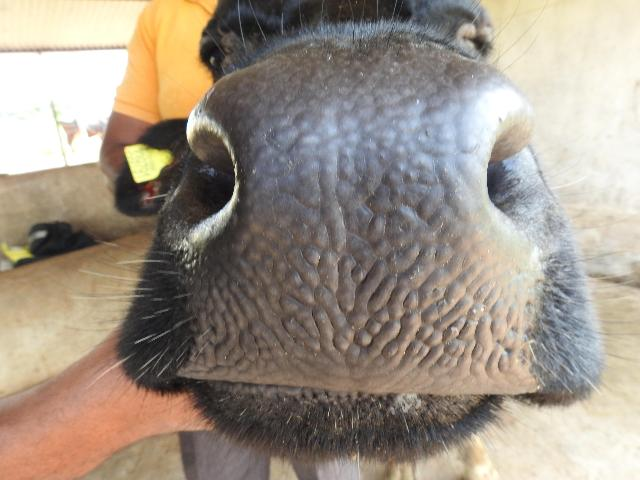Muzzle: (230, 78, 484, 382)
